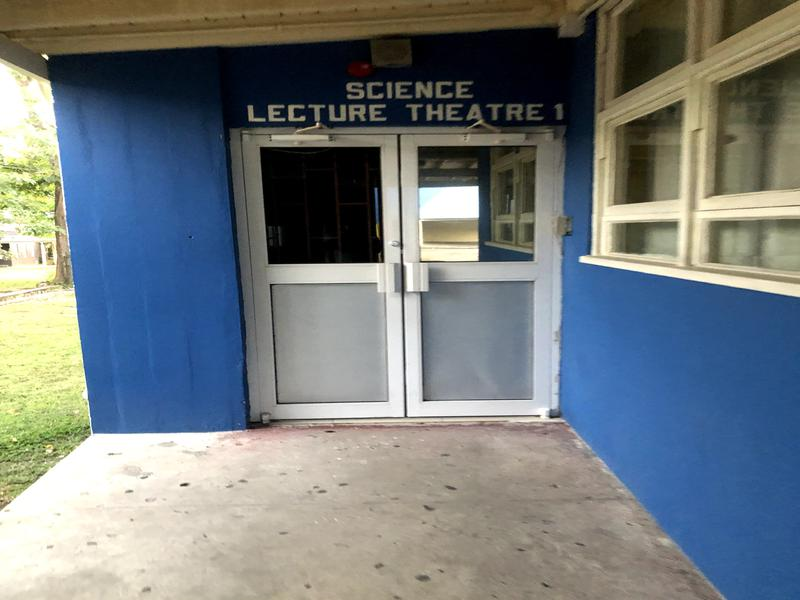18.0051836_-76.7497262_pclt1: (202, 68, 577, 443)
